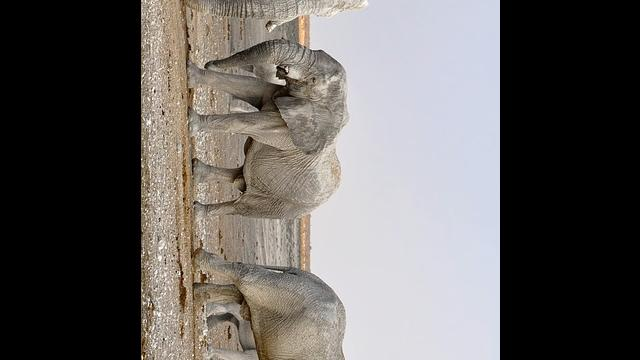Non_Gorille: (161, 0, 428, 360)
